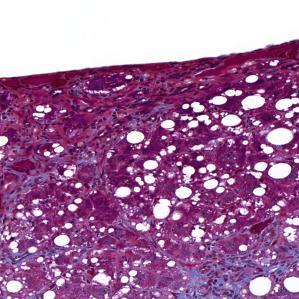fibrosis: (185, 254, 248, 294)
